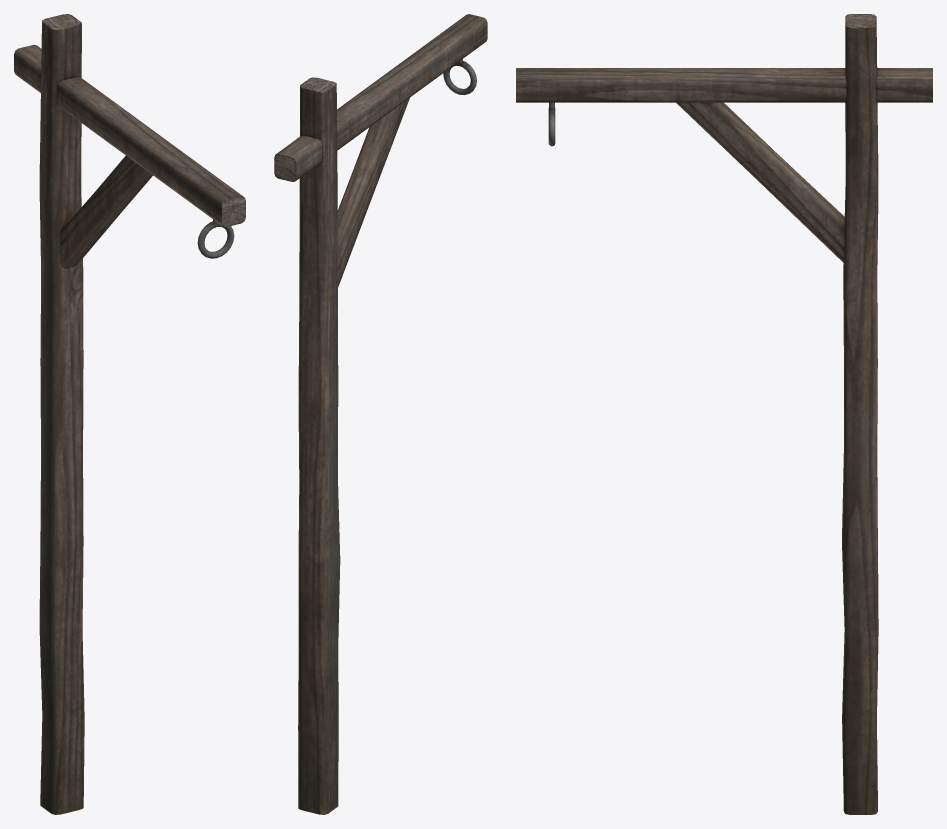
Rendered from pole_01.fbx.
3 views of the same model, side by side, from view 1: azimuth 30°, elevation 25°; view 2: azimuth 150°, elevation 25°; view 3: azimuth 270°, elevation 25° (orthographic). The views are drawn at different scales.
Parts seen in each view (by area): view 1: pole_01; view 2: pole_01; view 3: pole_01.
Part boxes in pixels (<box>): pole_01: <box>14,14,245,814</box>; pole_01: <box>274,14,487,814</box>; pole_01: <box>516,14,932,814</box>.
Size of the model in its own units: 32.56 by 681 by 327.
